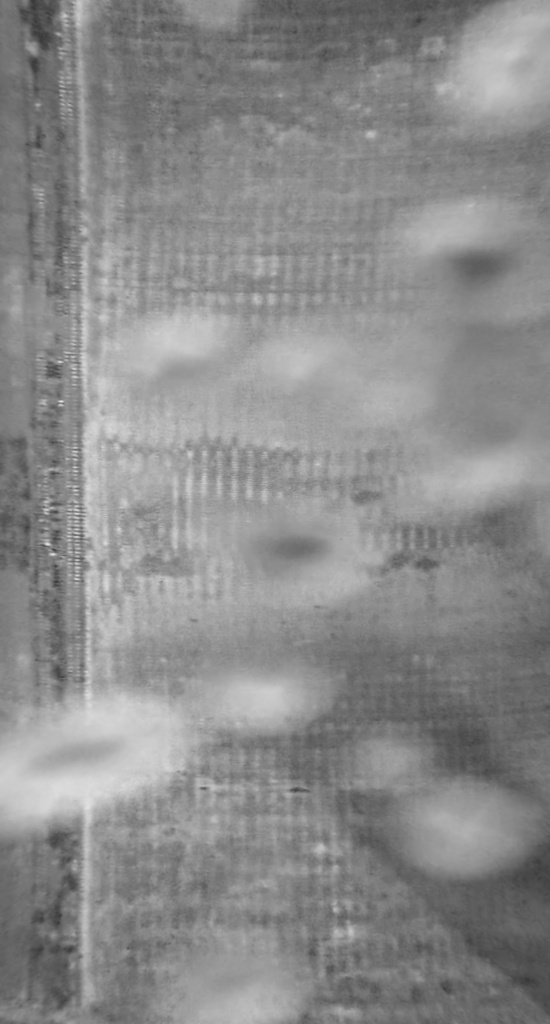splice: (2, 1, 99, 1021)
